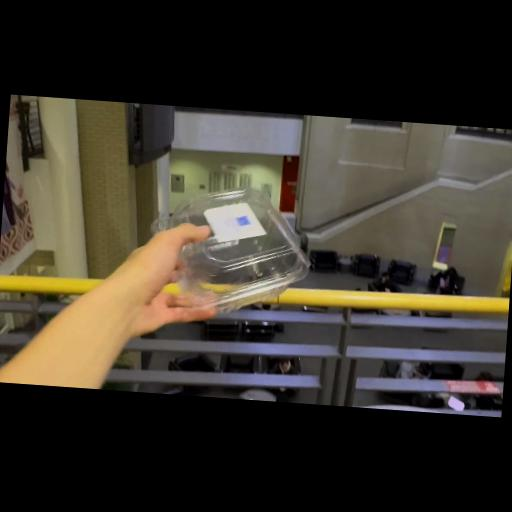small_plastic_container: (142, 181, 315, 321)
